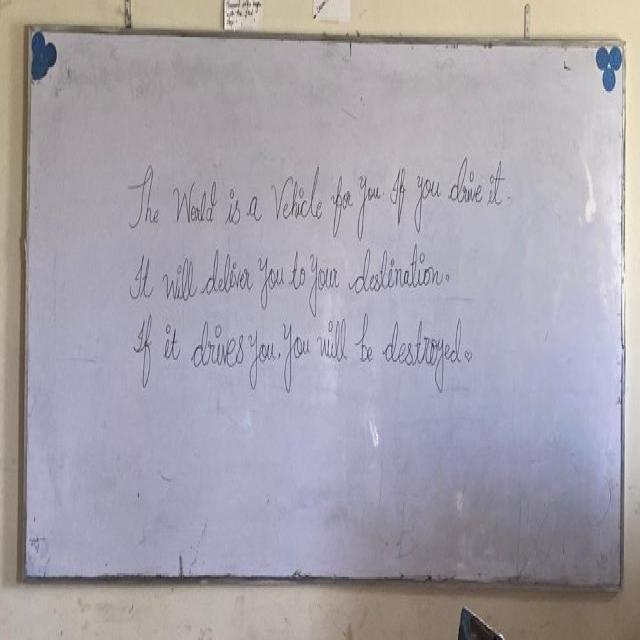White-board: (22, 33, 625, 586)
